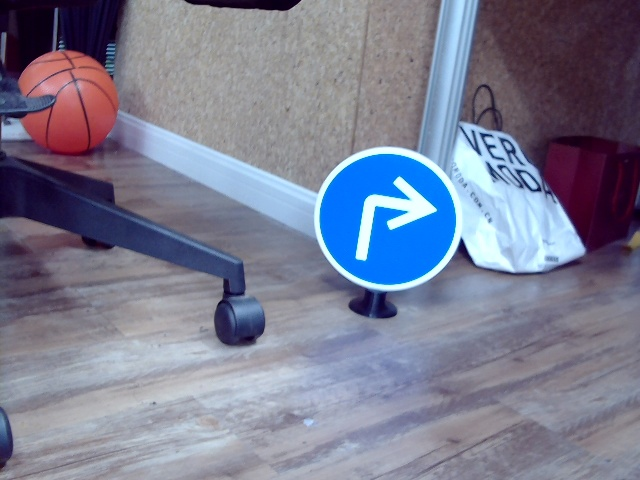turn_right: (360, 171, 429, 270)
